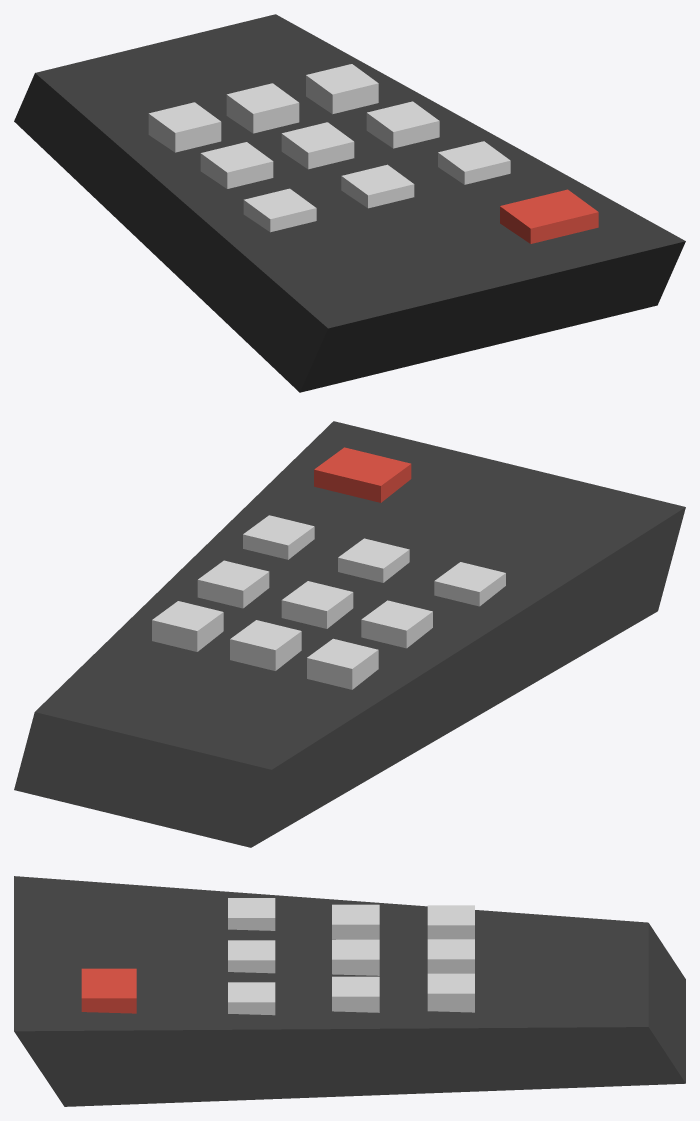
The model's file is tvremote.fbx.
3 renders of one model, top to bottom at view 1: azimuth 30°, elevation 25°; view 2: azimuth 150°, elevation 25°; view 3: azimuth 270°, elevation 25°, orthographic. The views are drawn at different scales.
Visible parts, largest first — view 1: Body, Power, Button.008, Button.007, Button.006, Button.004, Button.005, Button.003, Button.001, Button.002, Button; view 2: Body, Power, Button.008, Button.006, Button.007, Button.005, Button.004, Button.003, Button, Button.001, Button.002; view 3: Body, Power, Button.006, Button.004, Button.005, Button.003, Button.007, Button.008, Button.001, Button, Button.002.
Boxes of the visible parts, x1,y1,x2,y2 form: Body: (14, 14, 685, 392); Power: (500, 189, 598, 243); Button.008: (148, 102, 221, 152); Button.007: (226, 83, 299, 133); Button.006: (306, 64, 378, 114); Button.004: (281, 122, 354, 169); Button.005: (366, 101, 439, 148); Button.003: (200, 142, 273, 188); Button.001: (341, 164, 414, 208); Button.002: (243, 188, 316, 232); Button: (438, 141, 510, 184); Body: (14, 421, 685, 847); Power: (314, 447, 411, 502); Button.008: (307, 638, 378, 689); Button.006: (152, 601, 223, 651); Button.007: (230, 620, 301, 670); Button.005: (197, 560, 269, 608); Button.004: (281, 581, 353, 628); Button.003: (361, 600, 432, 648); Button: (243, 515, 314, 559); Button.001: (338, 538, 409, 582); Button.002: (434, 562, 505, 606); Body: (14, 876, 685, 1106); Power: (81, 968, 136, 1013); Button.006: (427, 973, 474, 1012); Button.004: (332, 939, 379, 975); Button.005: (332, 976, 379, 1012); Button.003: (332, 904, 379, 939); Button.007: (427, 939, 474, 973); Button.008: (427, 905, 474, 939); Button.001: (228, 940, 275, 973); Button: (228, 982, 275, 1015); Button.002: (228, 898, 275, 930).
Bounding box in the file's own units: 116 × 30.38 × 212.
